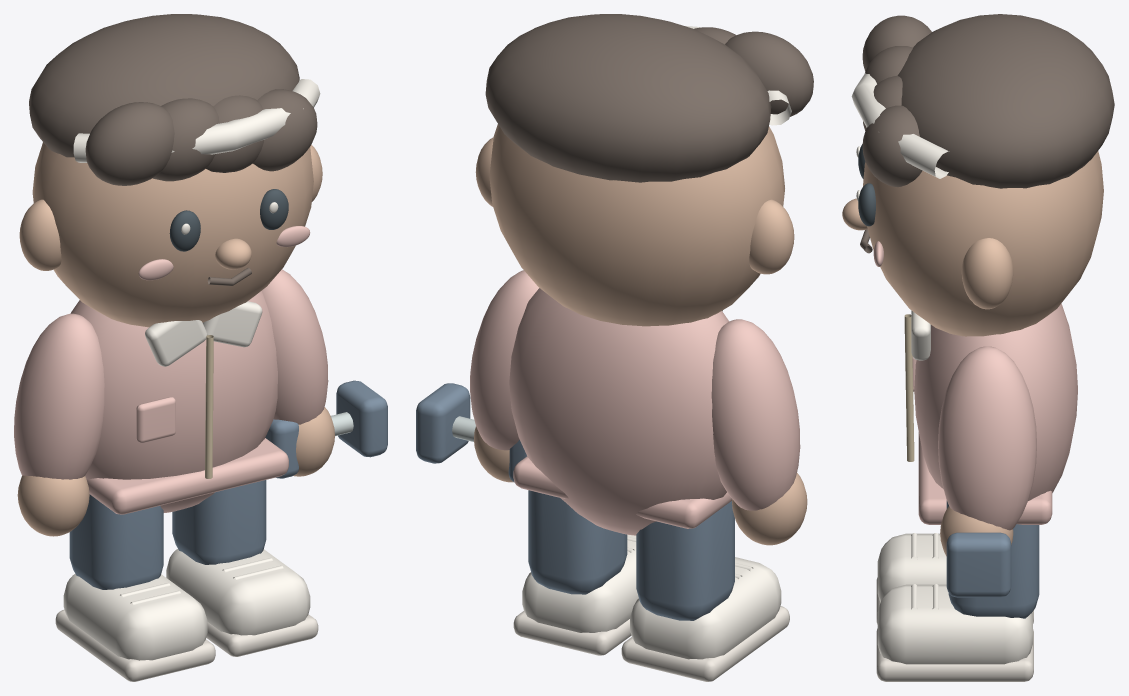
Rendered from coach.fbx.
3 renders of one model, left to right at view 1: azimuth 30°, elevation 25°; view 2: azimuth 150°, elevation 25°; view 3: azimuth 270°, elevation 25°, orthographic. The views are drawn at different scales.
Parts seen in each view (by area): view 1: Body.005, WalkLeg_L.005, WalkLeg_R.005, WalkArm_L.005, WalkArm_R.005; view 2: Body.005, WalkLeg_L.005, WalkArm_L.005, WalkLeg_R.005, WalkArm_R.005; view 3: Body.005, WalkLeg_R.005, WalkArm_R.005, WalkLeg_L.005.
Boxes of the visible parts, x1,y1,x2,y2 form: Body.005: [19, 14, 387, 514]; WalkLeg_L.005: [55, 494, 215, 681]; WalkLeg_R.005: [166, 480, 318, 656]; WalkArm_L.005: [14, 313, 104, 536]; WalkArm_R.005: [261, 269, 334, 476]; Body.005: [416, 14, 813, 535]; WalkLeg_L.005: [621, 501, 789, 681]; WalkArm_L.005: [711, 319, 807, 545]; WalkLeg_R.005: [513, 490, 638, 655]; WalkArm_R.005: [470, 270, 538, 482]; Body.005: [842, 14, 1114, 597]; WalkLeg_R.005: [876, 524, 1039, 681]; WalkArm_R.005: [938, 346, 1036, 556]; WalkLeg_L.005: [876, 533, 1033, 624].
Bounding box in the file's own units: 96.75 × 153 × 63.2.
